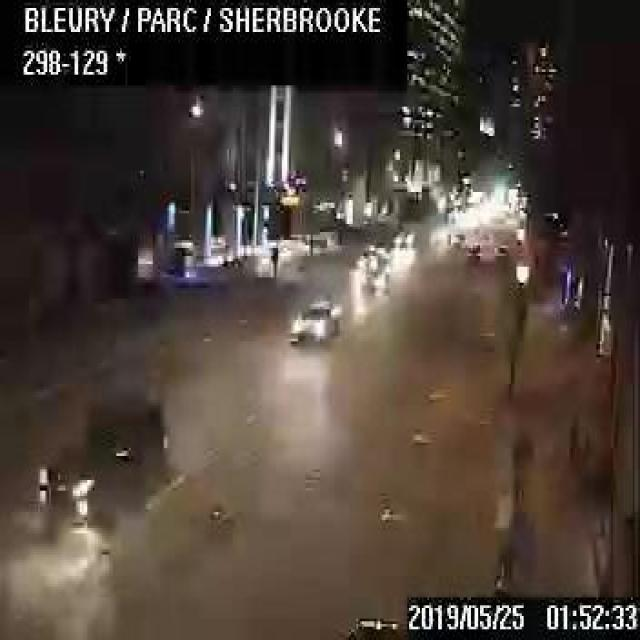vehicle: (34, 389, 166, 523), (287, 296, 338, 342)
